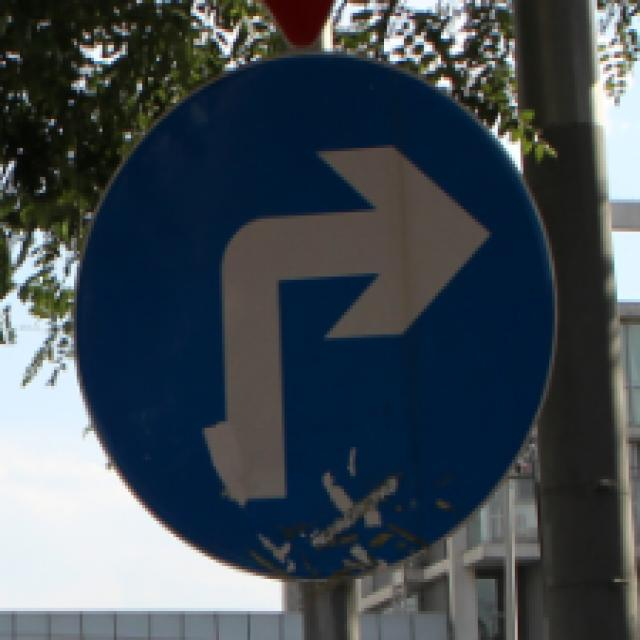Right: (76, 58, 556, 571)
